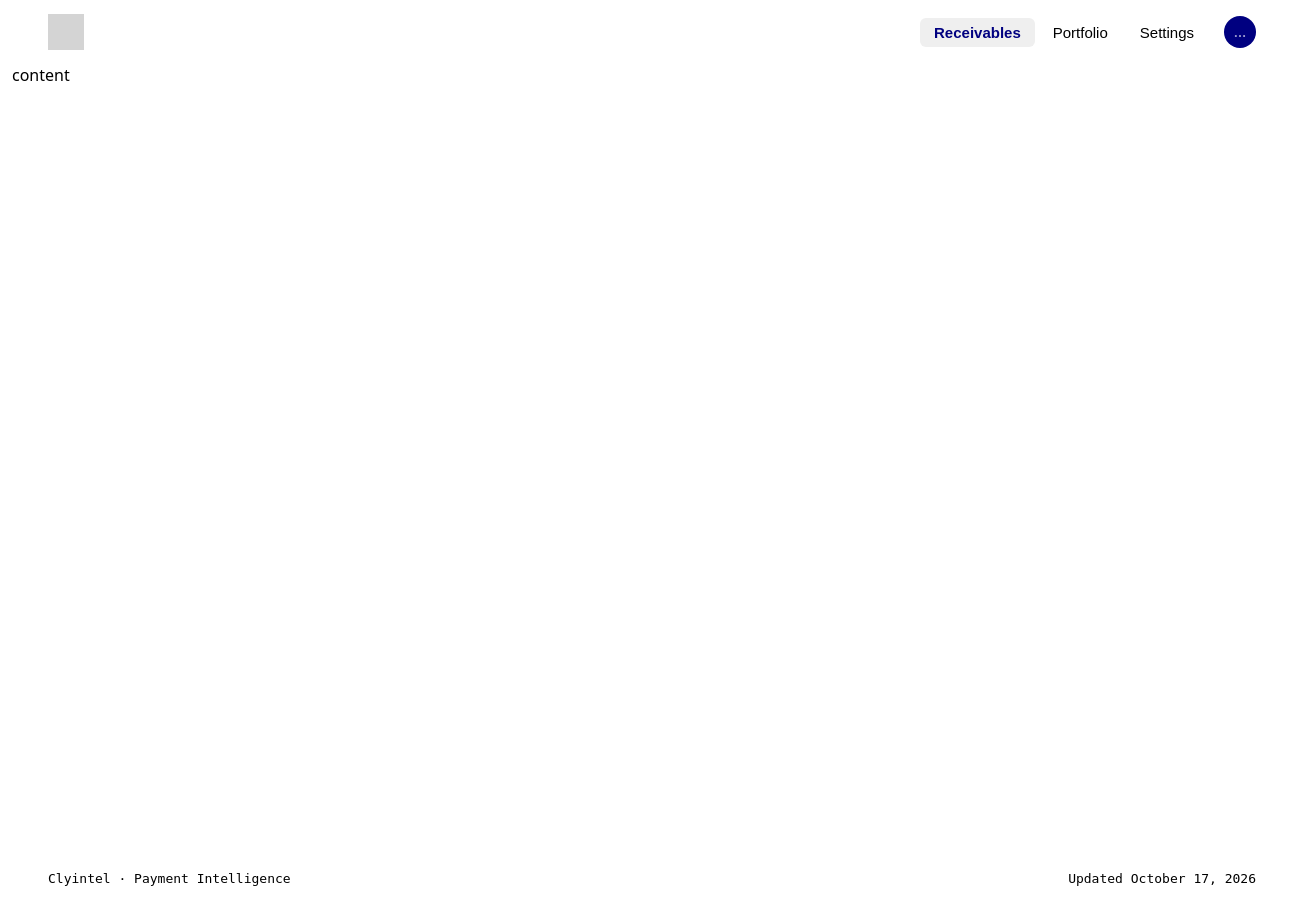
Test: AppShell — account-menu identity › shows 'Not signed in' + a neutral avatar when genuinely logged out
The width and height of the screenshot is (1292, 900).
Click the button named "Account menu" at (1240, 32), box [1224,16,1256,48]
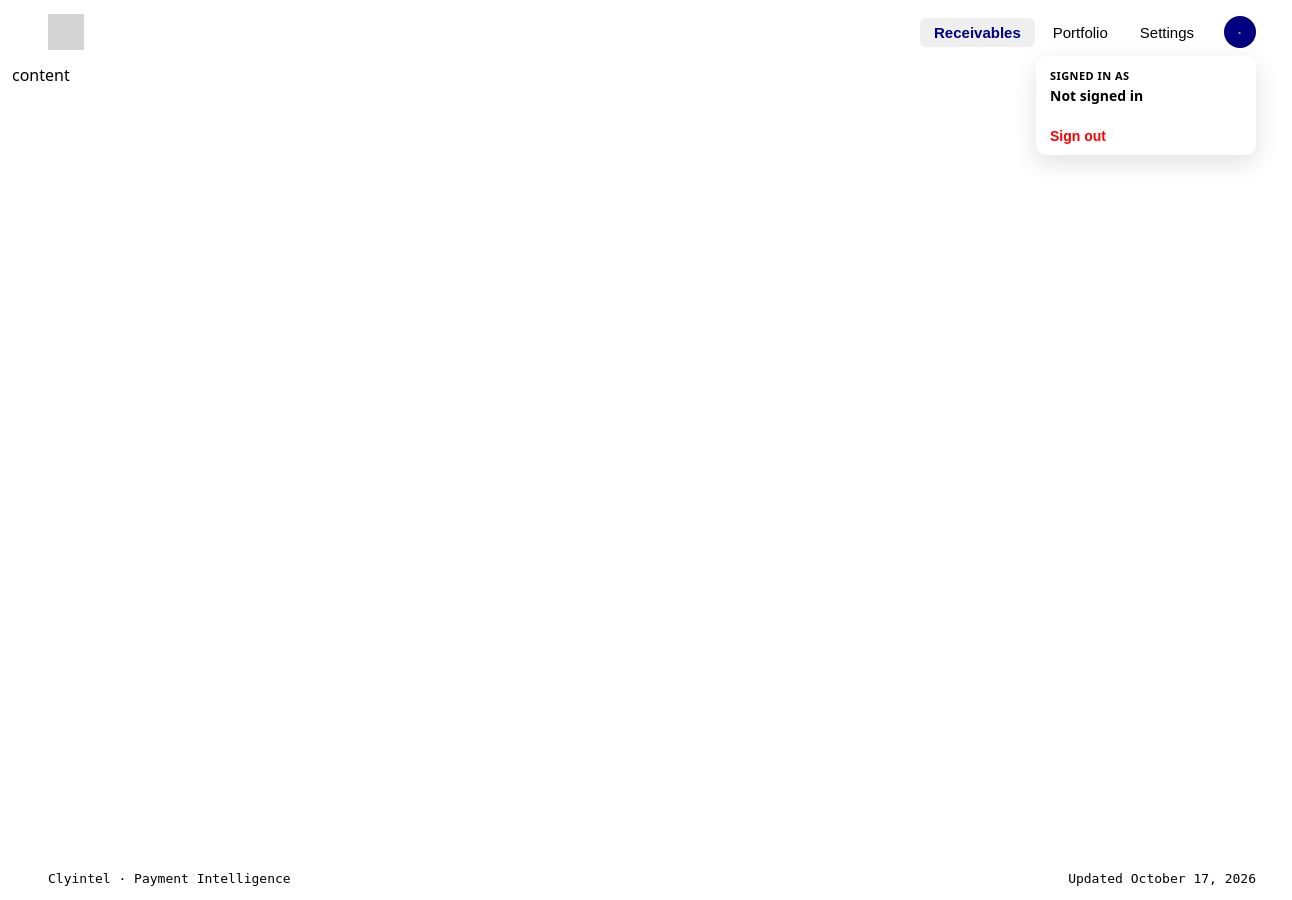
Check: the text "Not signed in" is shown, box [1050,86,1143,105]
